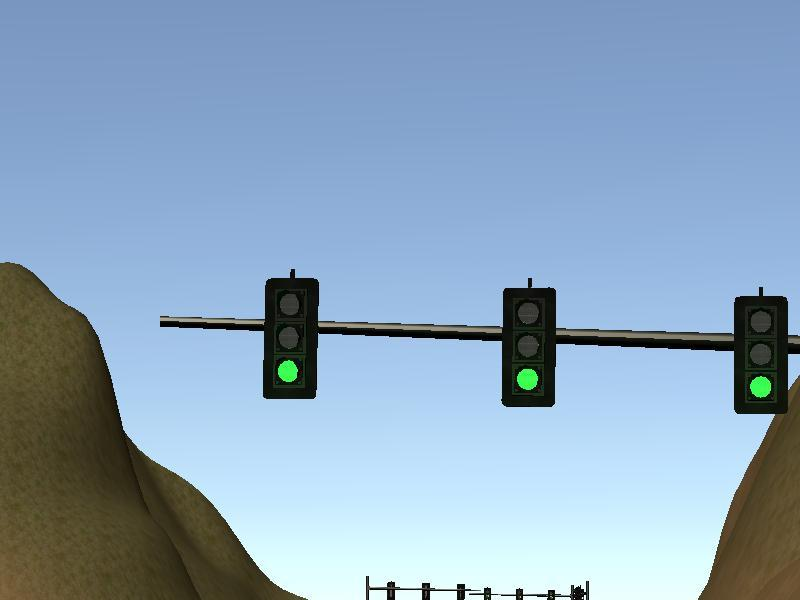Green: (502, 287, 556, 408), (734, 296, 788, 415), (265, 278, 318, 399)
